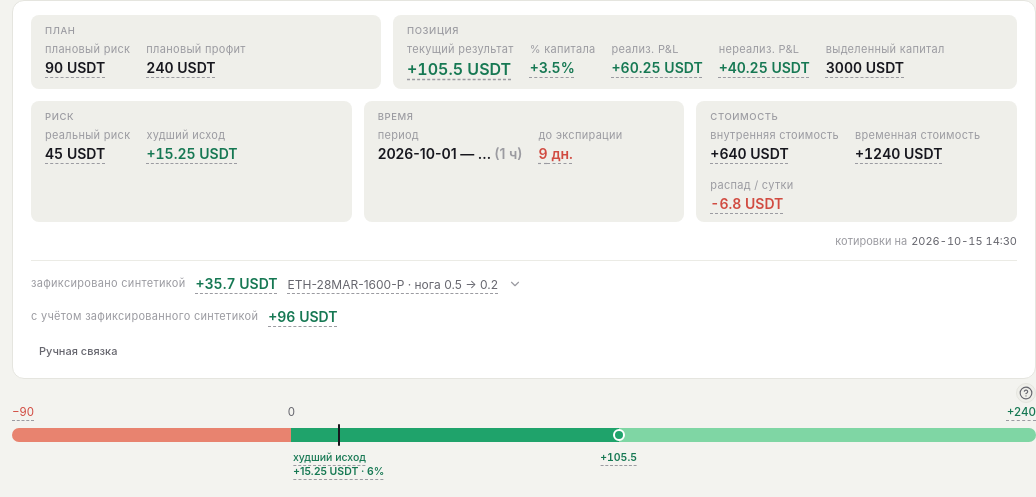
Test: ConstructionMetricStrip: подсказки числовых метрик сводки › сводная «с учётом зафиксированного синтетикой» открывает подсказку
This screenshot has width=1036, height=497.
# наведение на значение сводной.
Hover over the button "+96 USDT" at (303, 316), box [268,306,338,327]
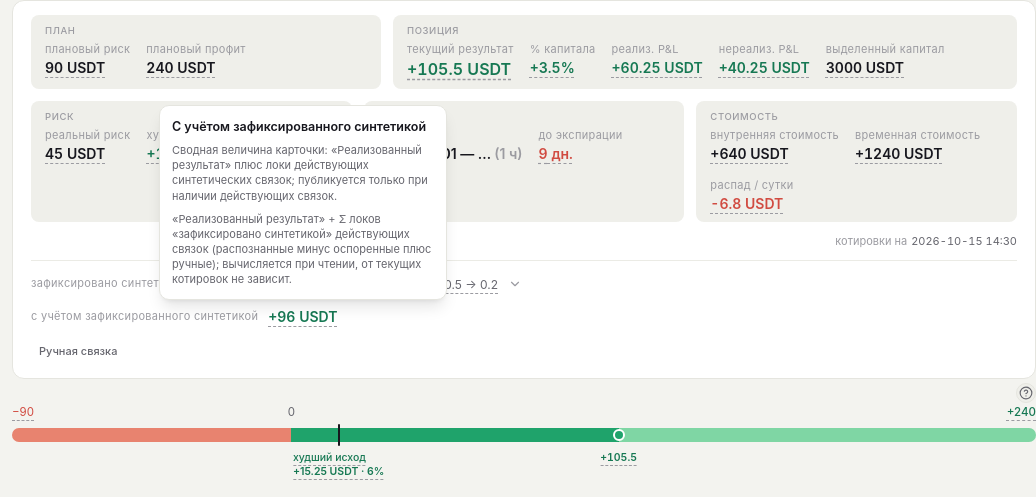
Expected: the tooltip is shown, [159,105,447,300]
Expected: the tooltip shows "С учётом зафиксированного синтетикой", [172,119,426,134]
